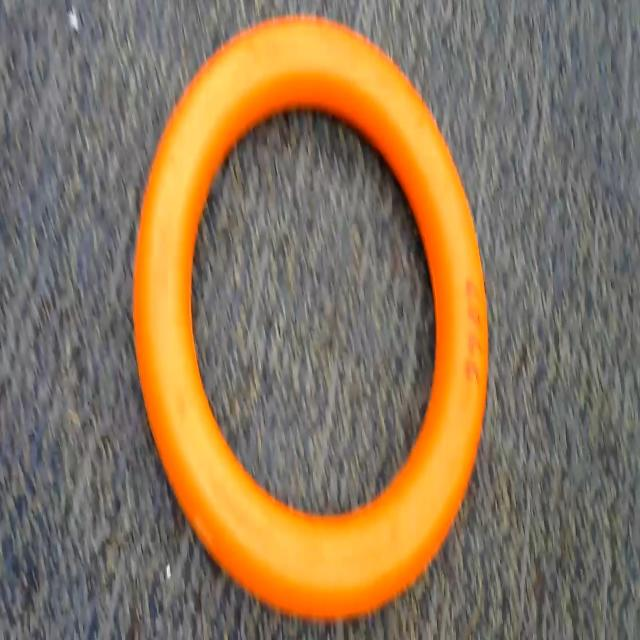note: (131, 4, 517, 622)
